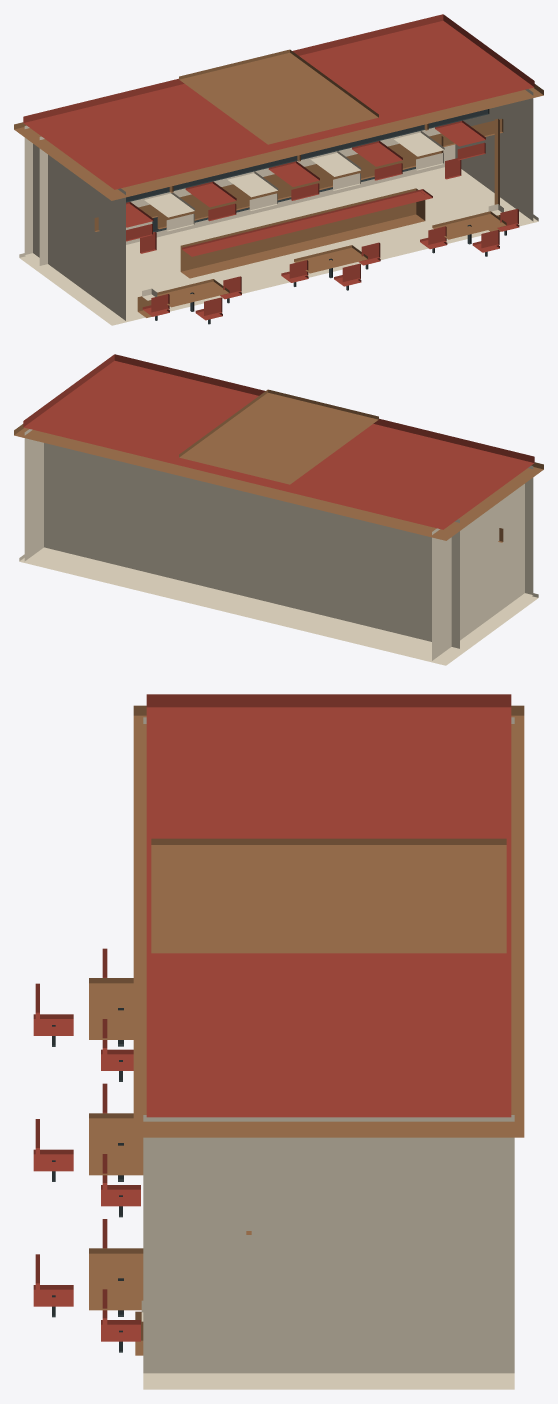
Rendered from LM_ENV_MamakMaju.glb.
3 renders of one model, top to bottom at view 1: azimuth 30°, elevation 25°; view 2: azimuth 150°, elevation 25°; view 3: azimuth 270°, elevation 25°, orthographic. The views are drawn at different scales.
Parts seen in each view (by area): view 1: LM_ENV_MamakMaju; view 2: LM_ENV_MamakMaju; view 3: LM_ENV_MamakMaju.
Part boxes in pixels (left/top/right/bottom): LM_ENV_MamakMaju: left=14, top=14, right=543, bottom=325; LM_ENV_MamakMaju: left=14, top=354, right=543, bottom=665; LM_ENV_MamakMaju: left=33, top=694, right=524, bottom=1389.
Bounding box in the file's own units: 31.2 × 9.95 × 15.32.
